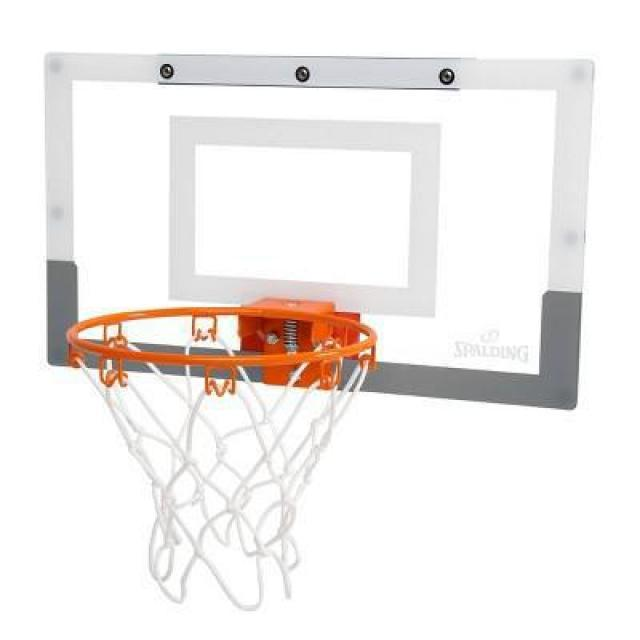hoop: (67, 306, 378, 610)
